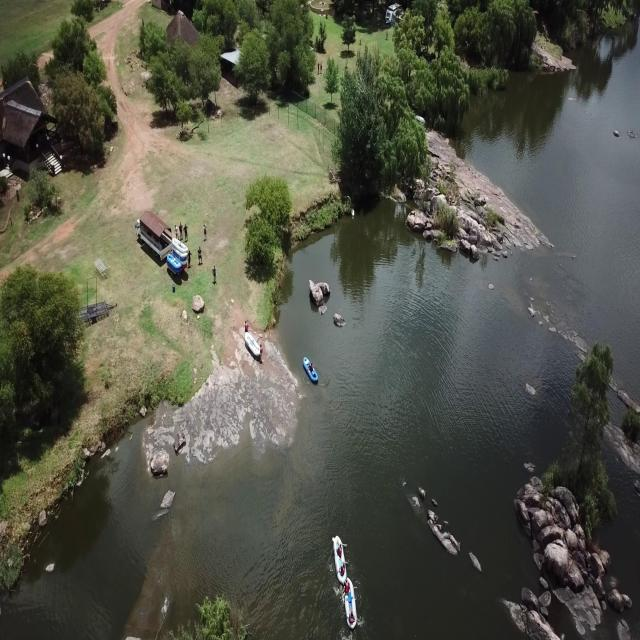kayak: (340, 574, 360, 632), (330, 534, 349, 590), (303, 356, 320, 390)
